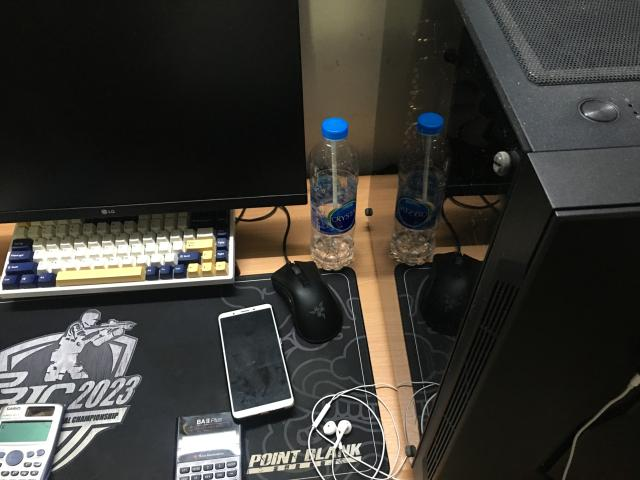Mobile phone: (219, 304, 294, 419)
Mouse: (271, 261, 342, 344)
bottle: (309, 118, 359, 270)
wire: (322, 420, 351, 450)
